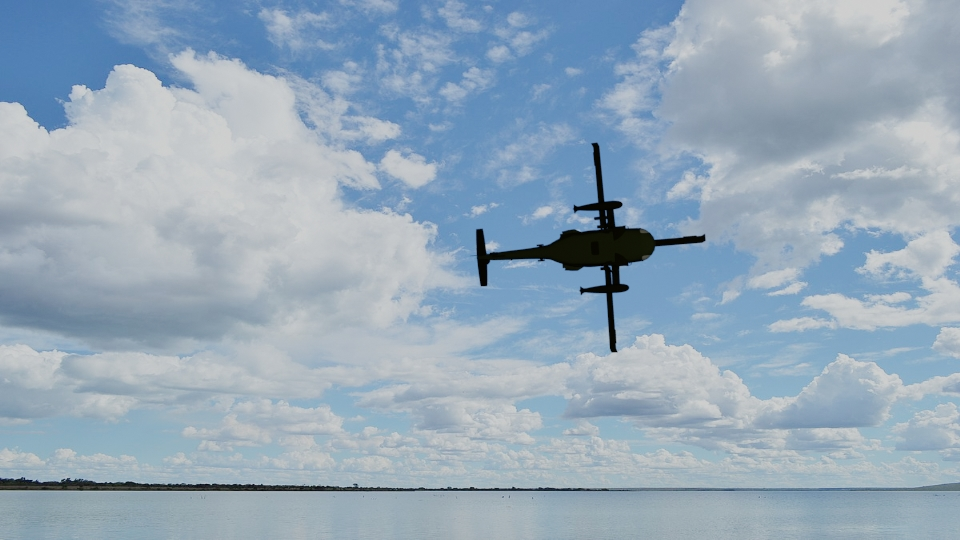heli: (474, 141, 707, 352)
